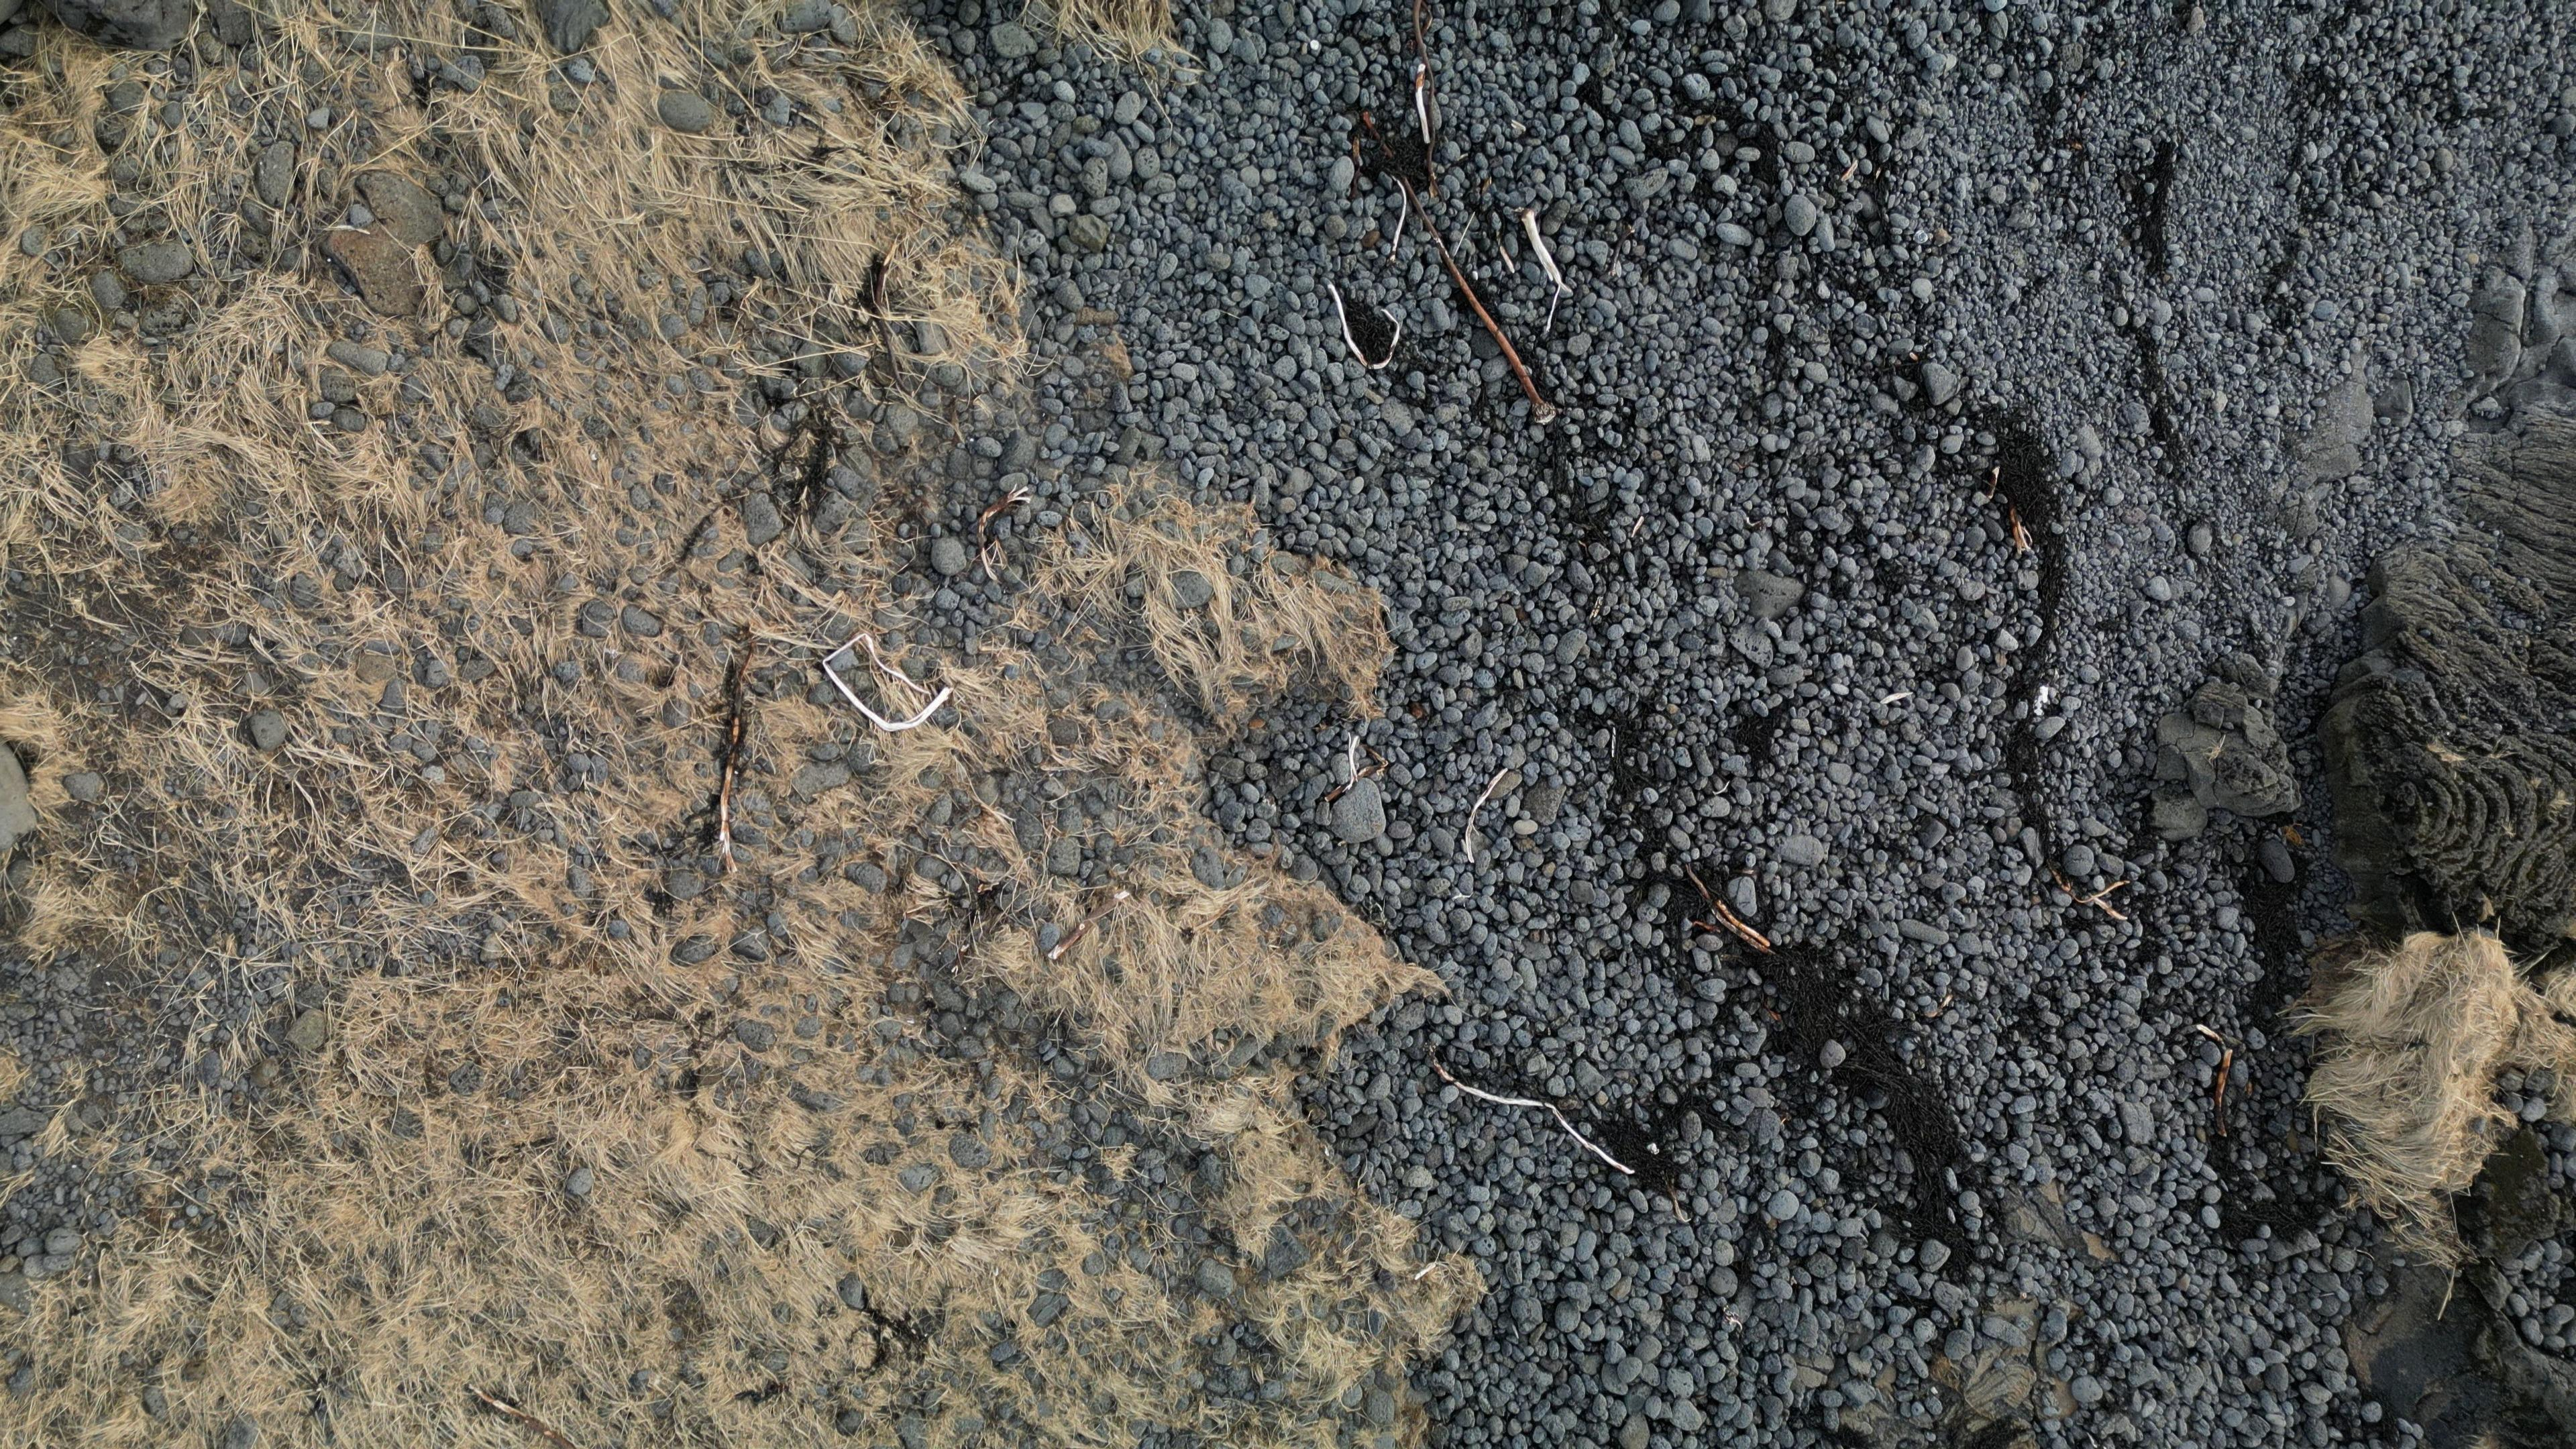trash: (821, 628, 950, 729)
